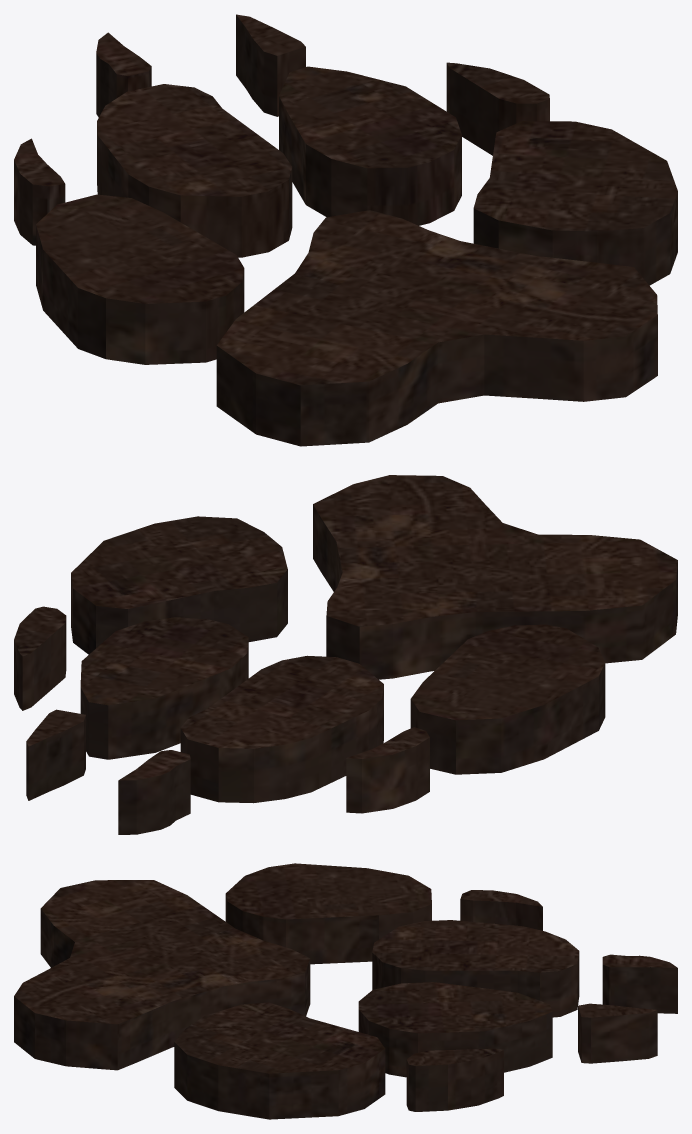
Rendered from paw.glb.
3 renders of one model, top to bottom at view 1: azimuth 30°, elevation 25°; view 2: azimuth 150°, elevation 25°; view 3: azimuth 270°, elevation 25°, orthographic. The views are drawn at different scales.
Visible parts, largest first — view 1: Paw; view 2: Paw; view 3: Paw.
Part boxes in pixels (x1,y1,x2,y2): Paw: [14, 14, 677, 446]; Paw: [14, 475, 677, 834]; Paw: [14, 863, 677, 1119].
Size of the model in its own units: 0.7417 by 0.0775 by 0.99.
Materials: 1 (1 with a texture image).
